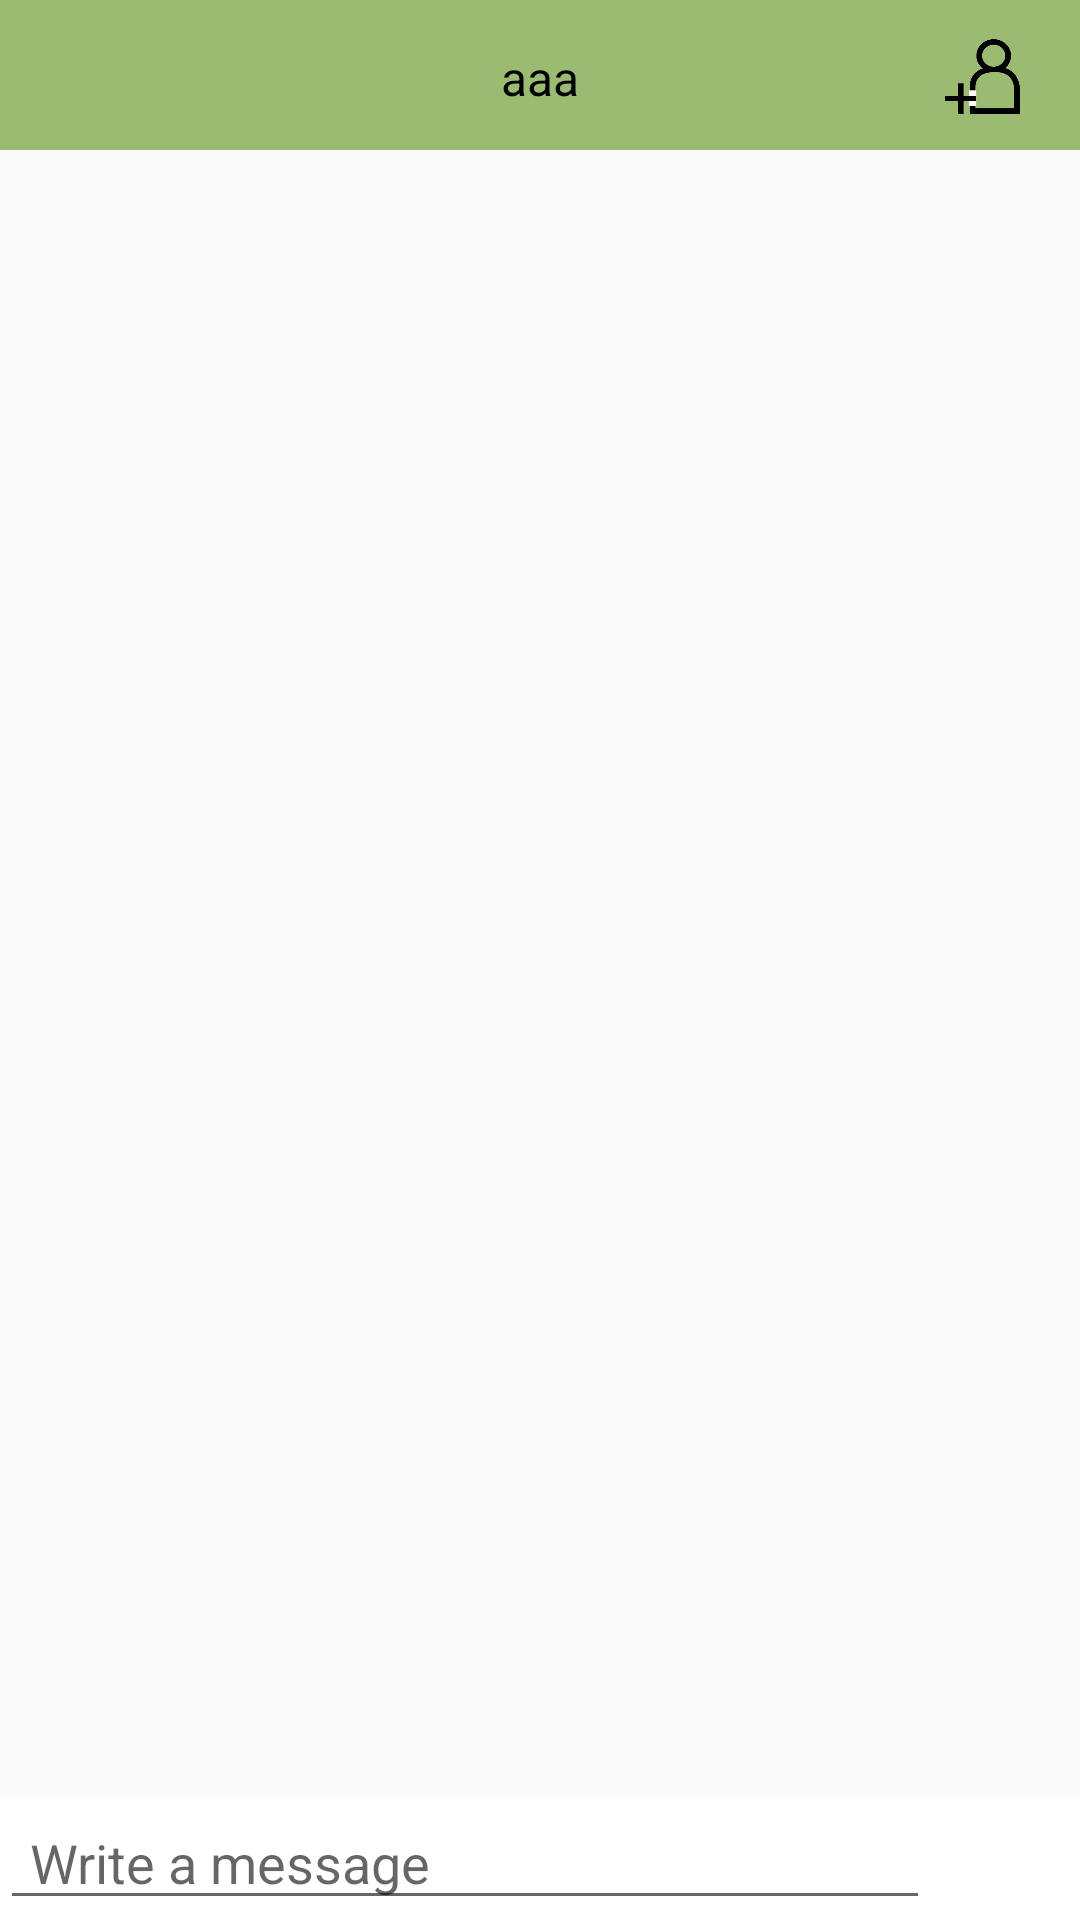

Point at icon controls on the screen. Image size 1080×1920, points as [x,y].
addd: [982,76]
